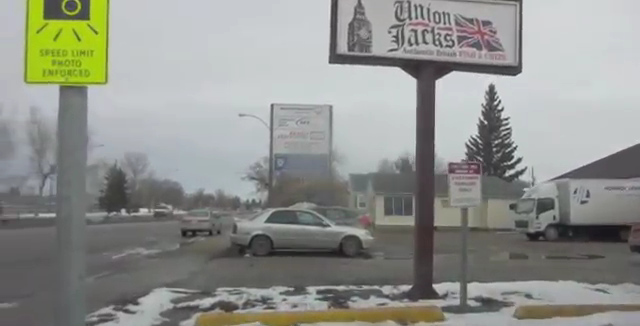bus: (508, 178, 640, 241)
car: (230, 206, 374, 258), (259, 205, 373, 251), (179, 209, 222, 236), (153, 203, 172, 220)
